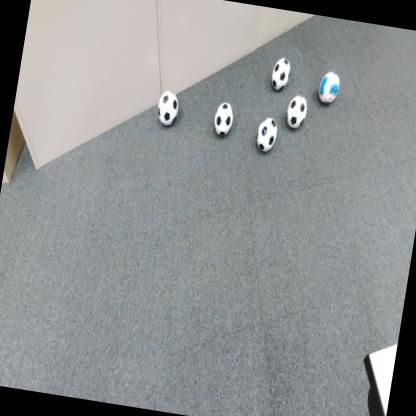ball: (155, 89, 180, 127), (254, 115, 279, 153), (284, 93, 308, 130), (211, 101, 234, 138), (318, 70, 342, 104), (270, 57, 292, 92)
